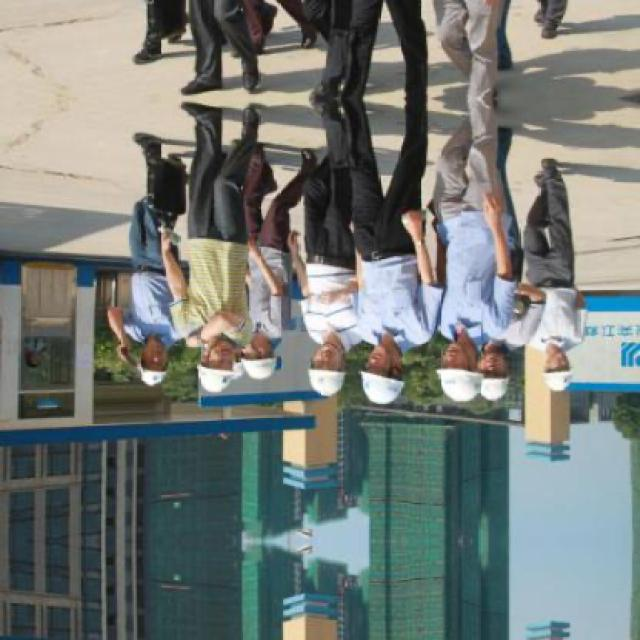con casco: (112, 292, 198, 390), (416, 328, 514, 398), (282, 331, 363, 414), (512, 339, 577, 423), (358, 334, 424, 414), (462, 344, 534, 408), (193, 324, 240, 402), (235, 325, 289, 383)
